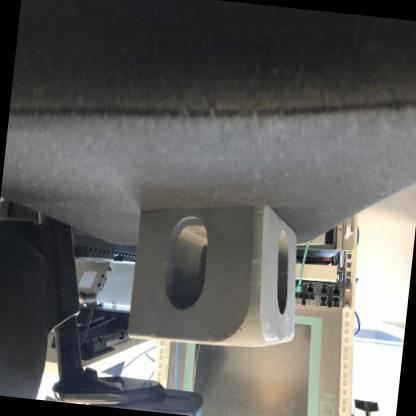CornerCasting: (124, 188, 308, 360)
